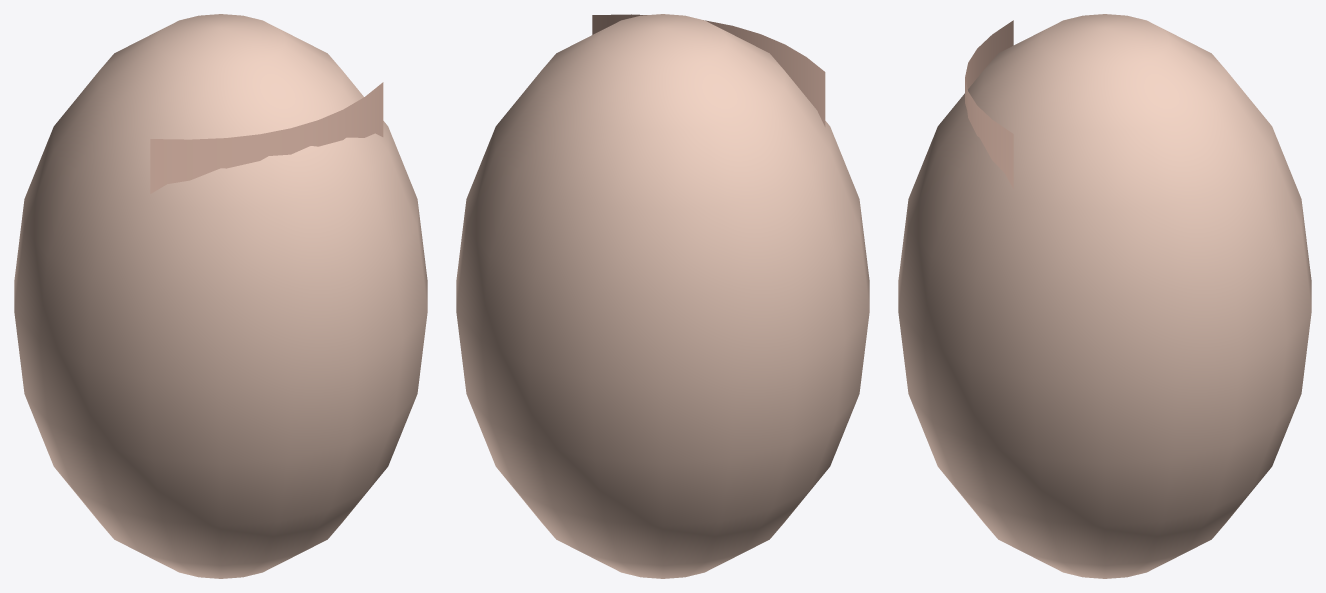
File: tongue_exercise_preview.glb
3 views of the same model, side by side, from view 1: azimuth 30°, elevation 25°; view 2: azimuth 150°, elevation 25°; view 3: azimuth 270°, elevation 25° (orthographic).
Parts seen in each view (by area): view 1: mouth_context, arched_palate; view 2: mouth_context, arched_palate; view 3: mouth_context, arched_palate.
Part boxes in pixels (<box>): mouth_context: <box>14,14,427,578</box>; arched_palate: <box>150,82,383,193</box>; mouth_context: <box>456,14,869,578</box>; arched_palate: <box>592,14,825,126</box>; mouth_context: <box>898,14,1311,578</box>; arched_palate: <box>965,20,1013,188</box>.
Bounding box in the file's own units: 1.56 × 2.2 × 1.54.
